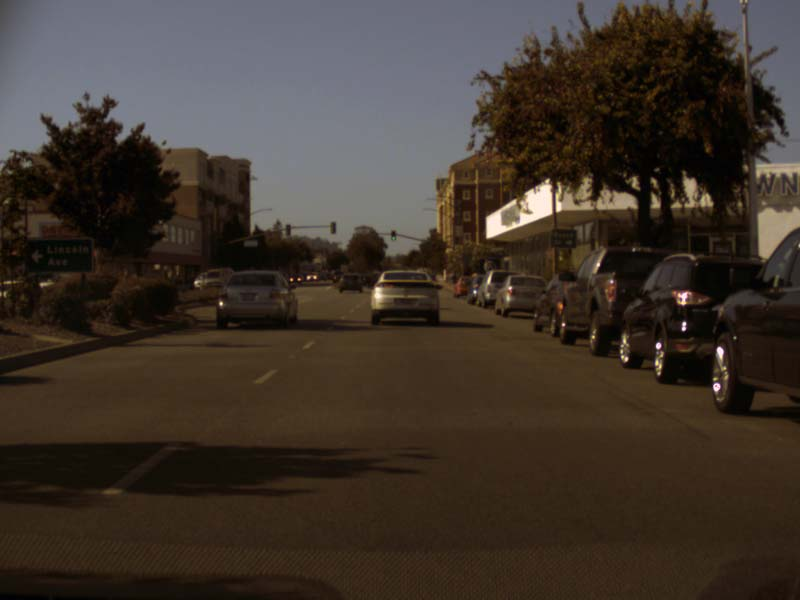Green: (391, 231, 395, 240)
